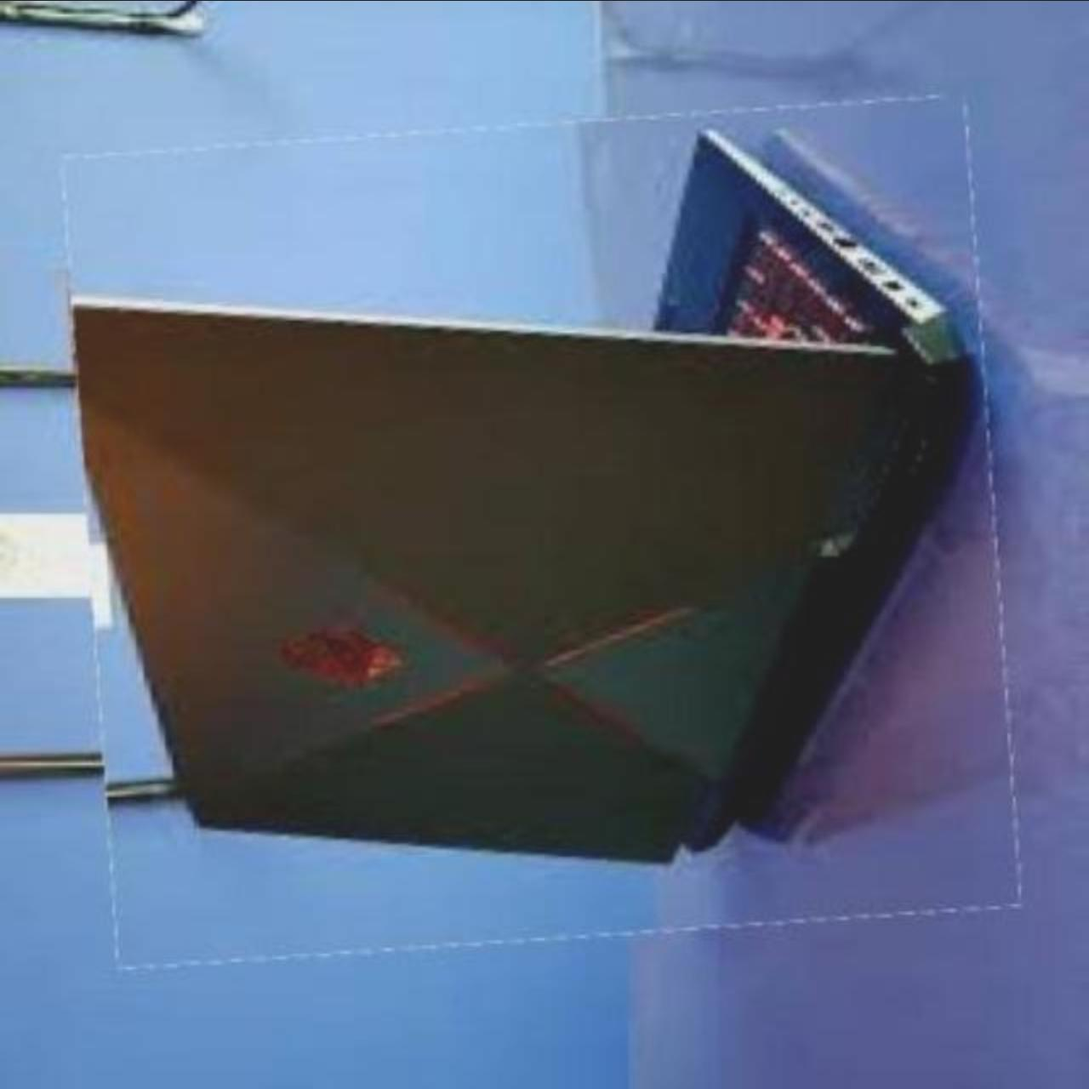laptop: (76, 110, 1006, 952)
